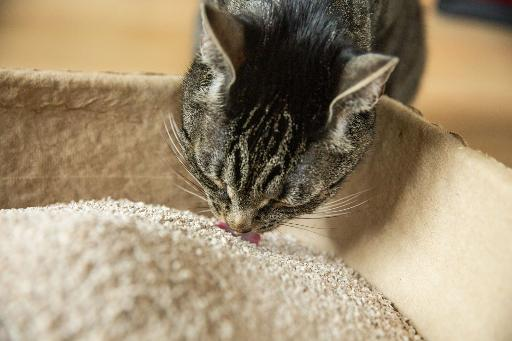cat_eating: (0, 0, 460, 341)
